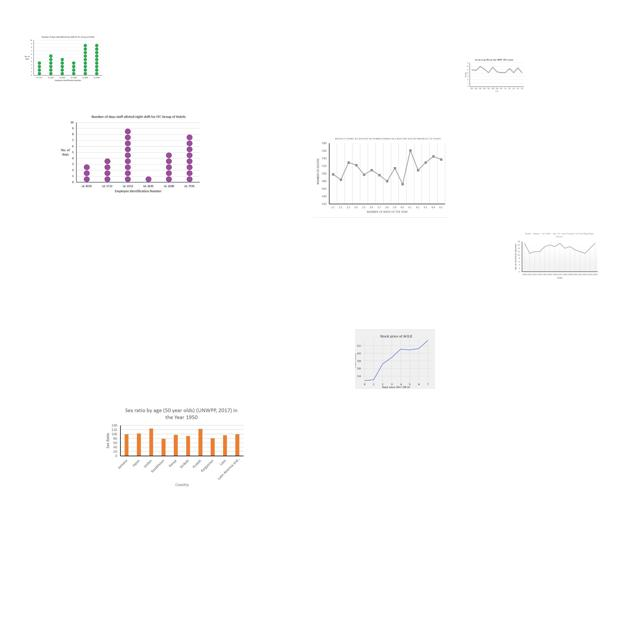Graph: (101, 404, 247, 489), (56, 113, 203, 196), (313, 134, 448, 218), (355, 329, 435, 389), (512, 231, 599, 280), (23, 34, 104, 84), (464, 58, 525, 93)
